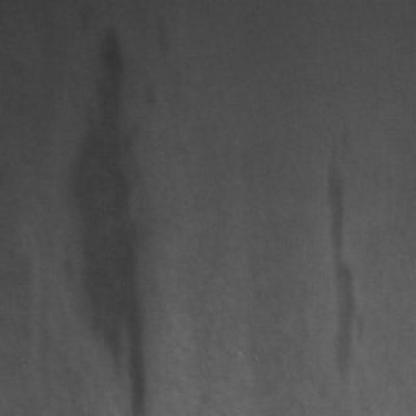inclusion: (64, 20, 154, 410), (324, 131, 376, 381)
